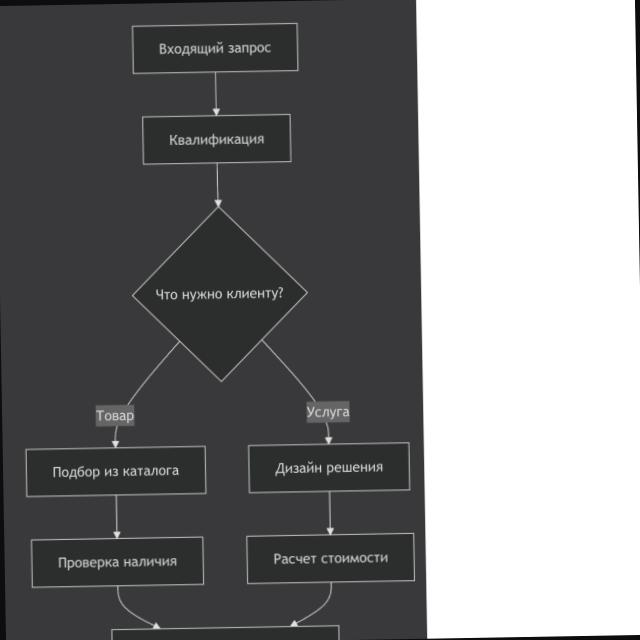arrow: (262, 340, 316, 402), (127, 342, 180, 405), (117, 587, 159, 628), (291, 583, 331, 626), (215, 163, 221, 206), (214, 72, 220, 115), (114, 496, 120, 538), (327, 492, 333, 534)
diamond: (134, 207, 306, 380)
rectangle: (27, 447, 205, 497), (31, 537, 203, 588), (132, 23, 298, 74), (247, 533, 414, 583), (249, 443, 409, 493), (142, 115, 291, 165)
text_region: (307, 402, 349, 421), (95, 407, 134, 424)
